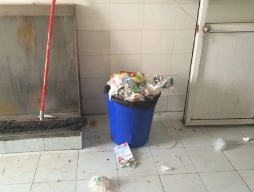garbage: (101, 68, 172, 104), (152, 122, 188, 157), (111, 138, 142, 167), (92, 174, 118, 192), (167, 152, 193, 165), (159, 161, 183, 175), (211, 136, 228, 152), (239, 135, 254, 146)
